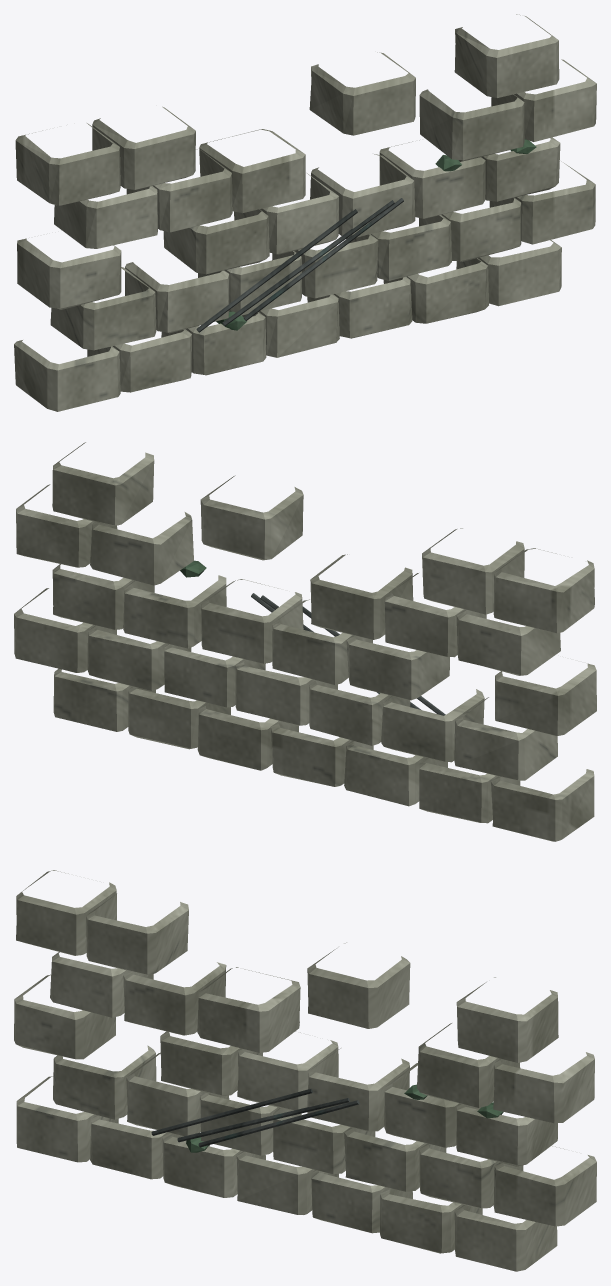
File: 0346_wall_section_21.glb
3 renders of one model, top to bottom at view 1: azimuth 30°, elevation 25°; view 2: azimuth 150°, elevation 25°; view 3: azimuth 330°, elevation 25°, orthographic.
Visible parts, largest first — view 1: stone_light, iron, moss; view 2: stone_light, iron; view 3: stone_light, iron, moss.
Part boxes in pixels (left/top/right/bottom): stone_light: left=14, top=14, right=596, bottom=411; iron: left=196, top=198, right=403, bottom=332; moss: left=216, top=139, right=536, bottom=330; stone_light: left=14, top=442, right=596, bottom=841; iron: left=251, top=593, right=445, bottom=715; stone_light: left=14, top=870, right=596, bottom=1271; iron: left=151, top=1089, right=359, bottom=1147; moss: left=186, top=1084, right=503, bottom=1152.
Bounding box in the file's own units: 4.22 × 1.88 × 0.5969.
Materials: 3 (3 with a texture image).
